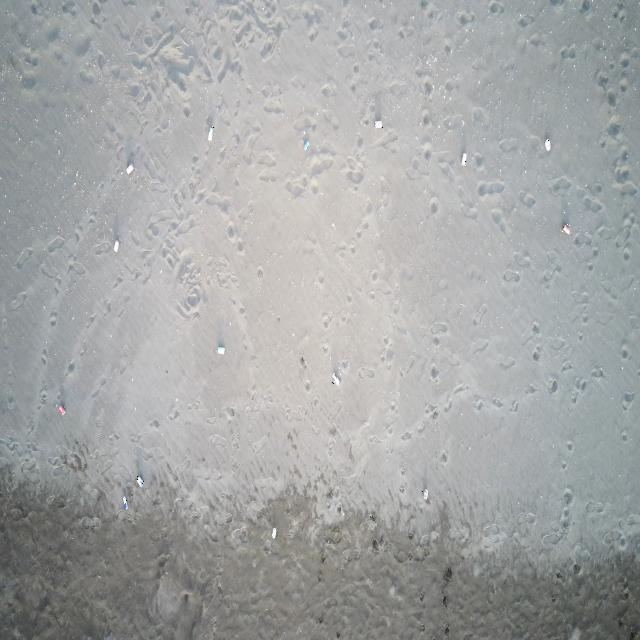tin-and-aluminum-cans: (206, 125, 214, 144), (331, 372, 341, 386), (135, 476, 145, 489), (112, 239, 120, 254), (126, 162, 134, 175), (374, 118, 383, 129), (58, 405, 67, 416), (562, 222, 570, 234), (302, 139, 310, 151), (216, 344, 224, 356), (122, 494, 128, 510), (422, 488, 429, 501), (461, 152, 467, 167), (545, 136, 551, 150), (272, 526, 278, 540)
